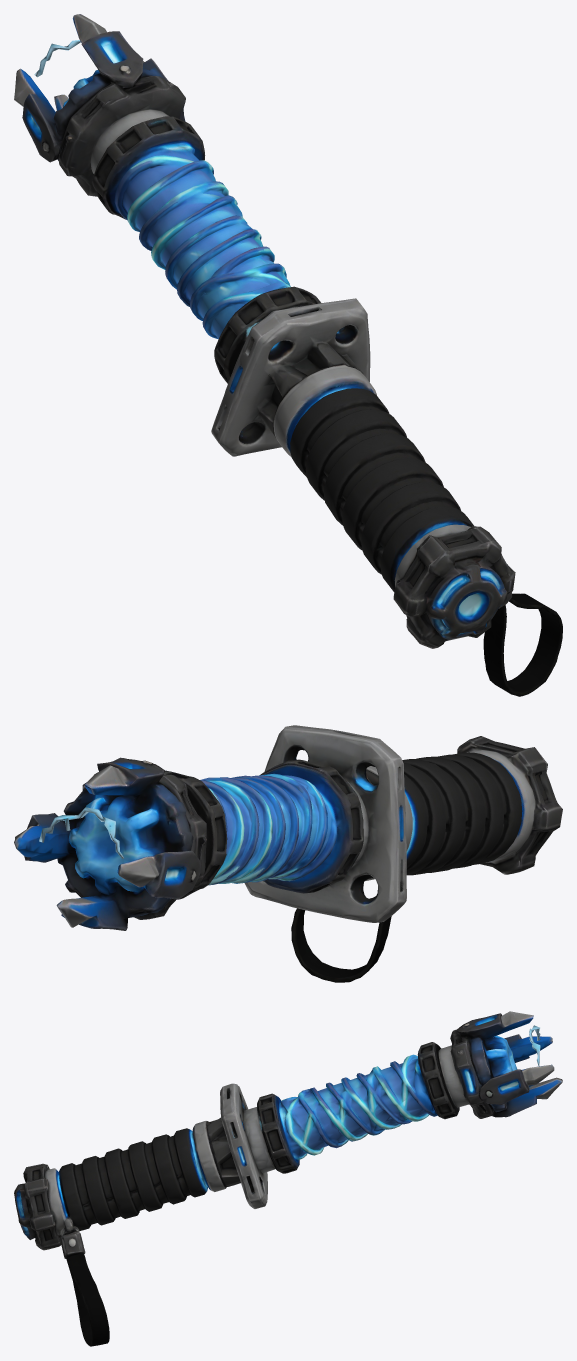
File: StunBaton.glb
3 views of the same model, one above another, from view 1: azimuth 30°, elevation 25°; view 2: azimuth 150°, elevation 25°; view 3: azimuth 270°, elevation 25° (orthographic). The views are drawn at different scales.
Parts seen in each view (by area): view 1: Mesh::generatedModels/hxXe4W7uNkskvTiPhPVs.gltf; view 2: Mesh::generatedModels/hxXe4W7uNkskvTiPhPVs.gltf; view 3: Mesh::generatedModels/hxXe4W7uNkskvTiPhPVs.gltf.
Part boxes in pixels (left/top/right/bottom): Mesh::generatedModels/hxXe4W7uNkskvTiPhPVs.gltf: left=14, top=14, right=562, bottom=696; Mesh::generatedModels/hxXe4W7uNkskvTiPhPVs.gltf: left=14, top=725, right=562, bottom=982; Mesh::generatedModels/hxXe4W7uNkskvTiPhPVs.gltf: left=14, top=1011, right=562, bottom=1346.
Size of the model in its own units: 0.3022 by 0.5982 by 1.
Materials: 1 (1 with a texture image).
